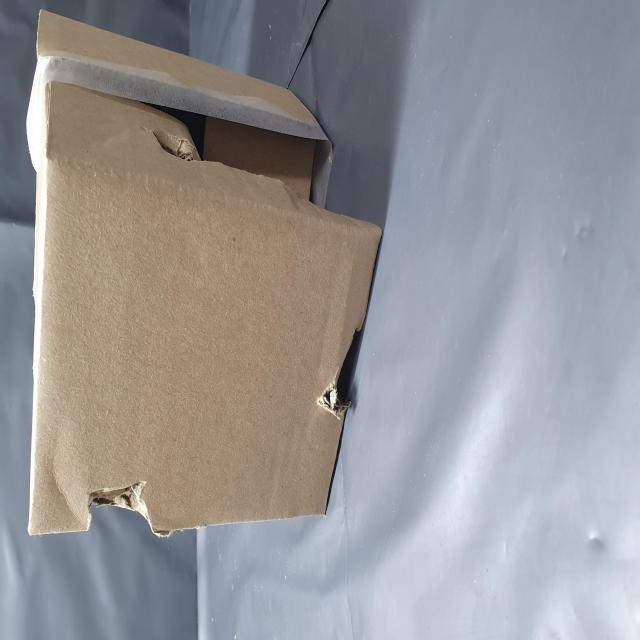damaged: (208, 282, 292, 640), (109, 562, 169, 638), (66, 144, 90, 277)
